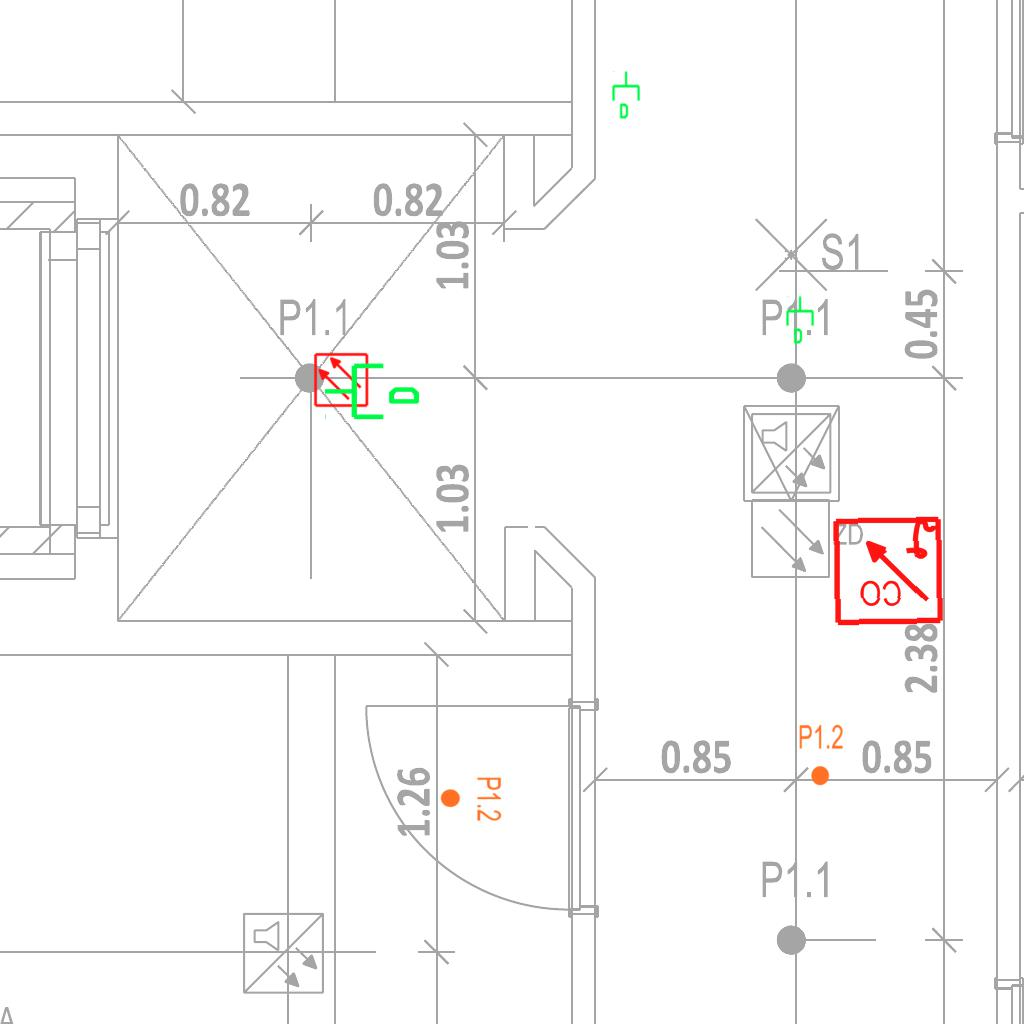Datenanschluss_einfach: (322, 355, 422, 424), (784, 295, 818, 345), (610, 70, 644, 120)
Downlight_LED_Einbauleuchten_Flur: (798, 723, 844, 787), (439, 776, 503, 822)
RMO_Rauchmelder_optischer: (313, 352, 369, 408)
ROA_Rauchmelder_optisch_mit_Signalgeber_(Sockelsirene): (830, 512, 945, 627)
